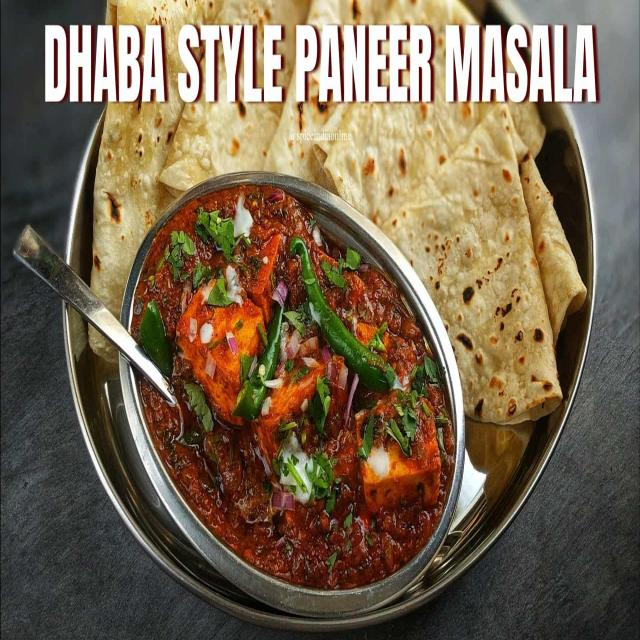roti: (438, 143, 545, 323)
